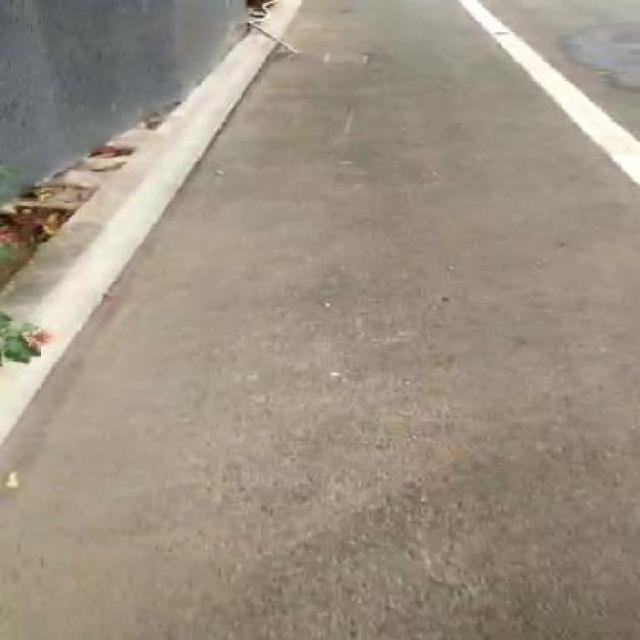Manhole: (282, 46, 376, 66)
